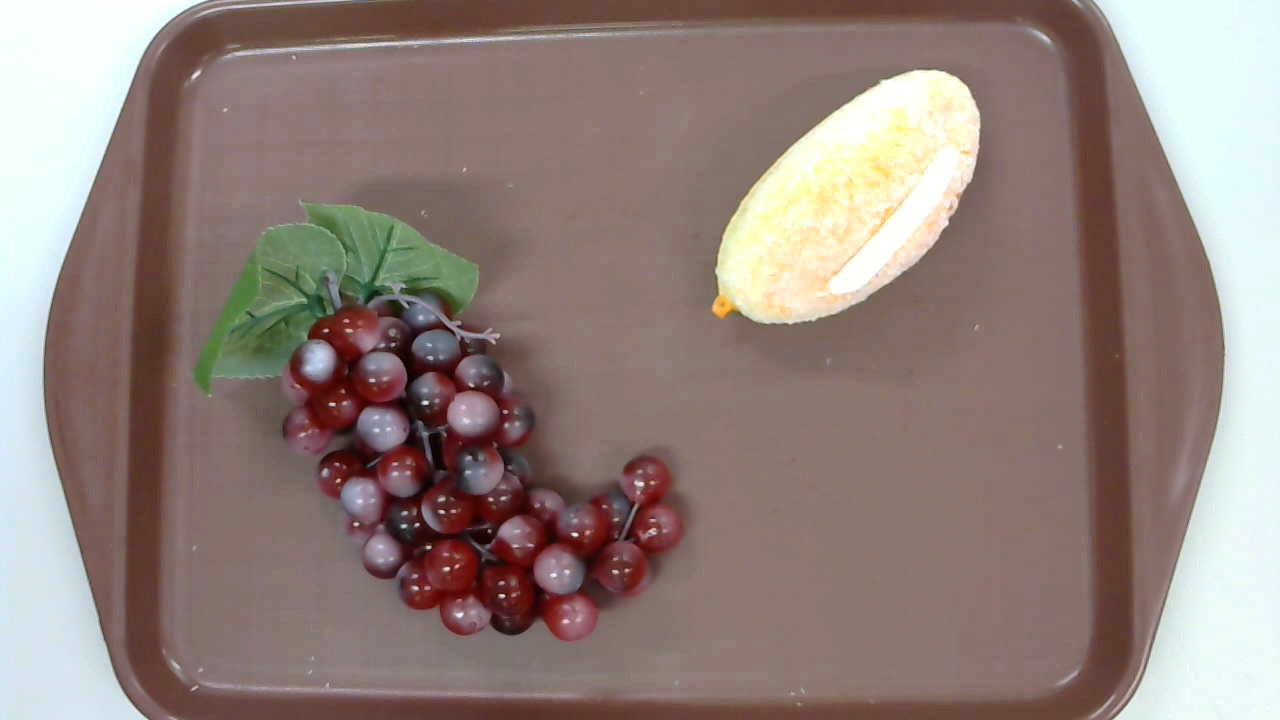coconut: (710, 68, 982, 323)
grape: (193, 201, 686, 640)
